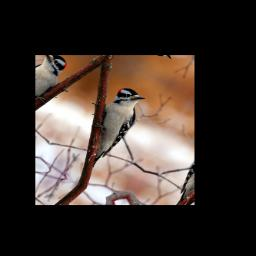Woodpecker: (70, 83, 150, 172)
